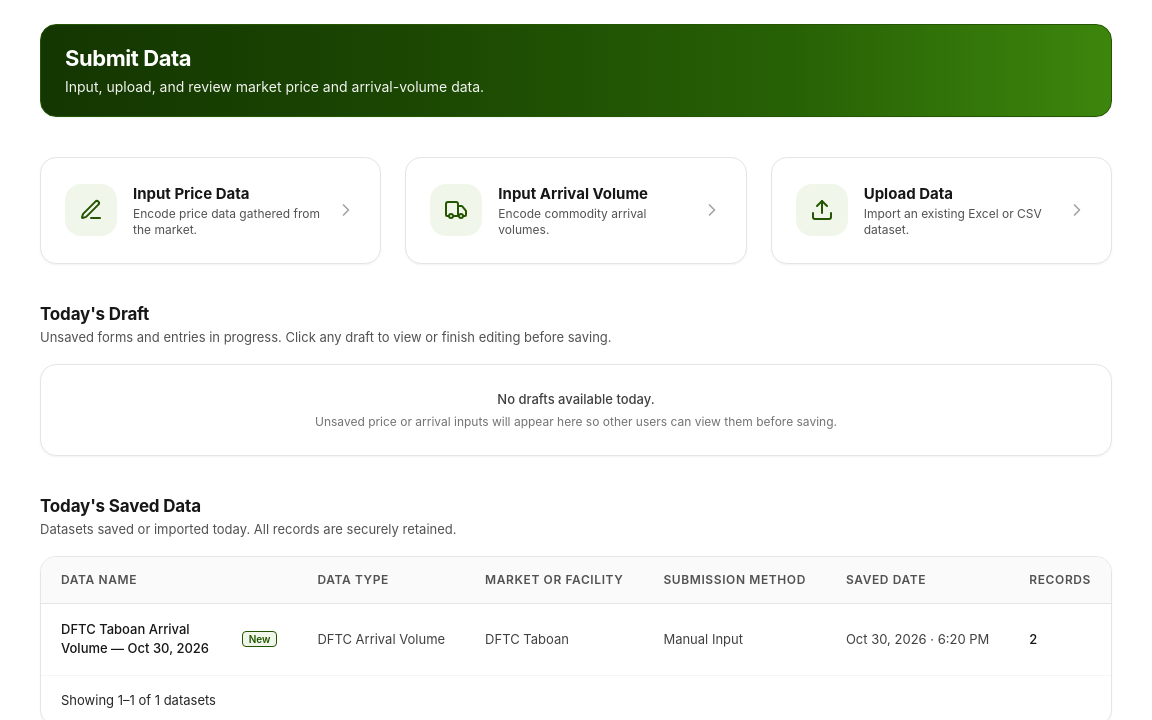
Test: DFTCInput Submit Data Page › opens an arrival-volume report, not the price report, for a manual arrival row
The image size is (1152, 720).
Click the 2nd row. click: {"x": 125, "y": 629}
box: [41,603,1111,675]
(page scrolled)
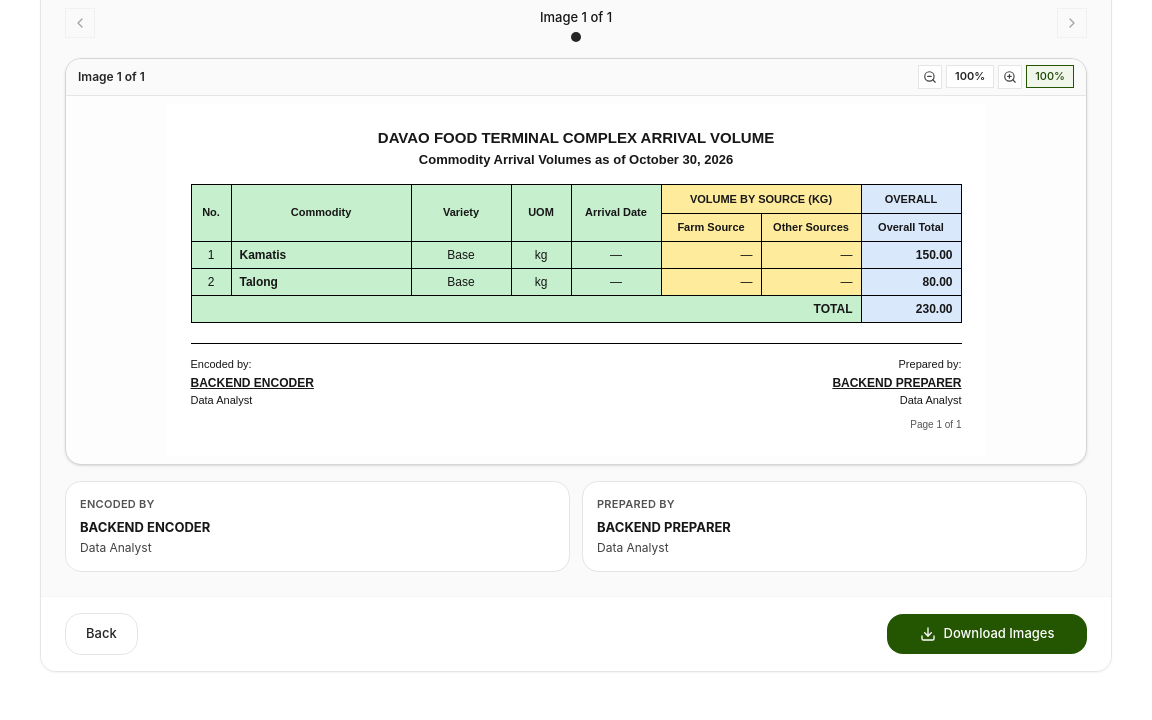
Result: the text "Kamatis" is shown at [240,248,286,262]
Result: the column heading "VOLUME BY SOURCE (KG)" is shown at [661,184,861,214]
Result: the column heading "OVERALL" is shown at [861,184,961,214]
